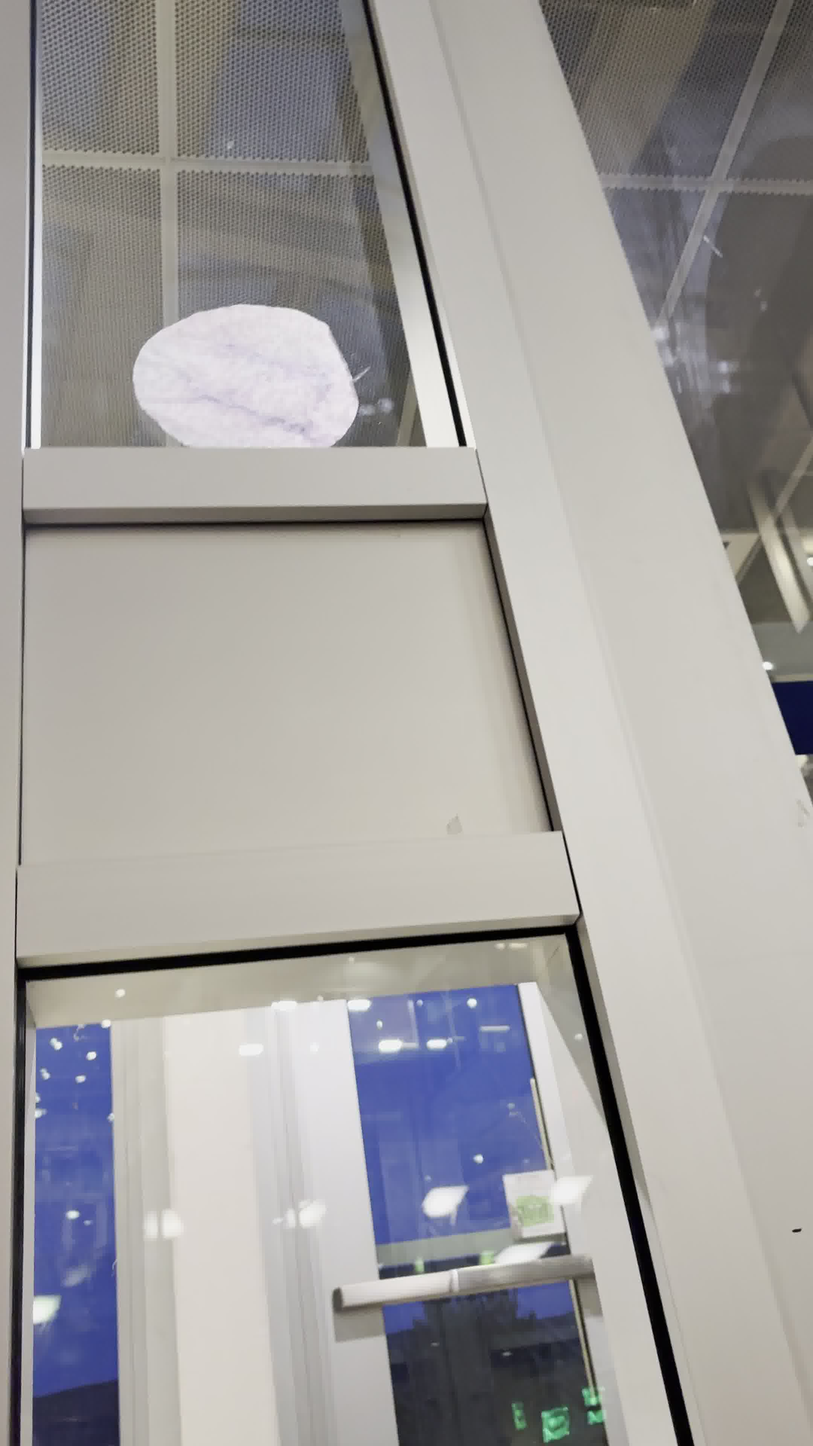Target: (130, 302, 363, 452)
